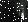person: (17, 6, 24, 20)
